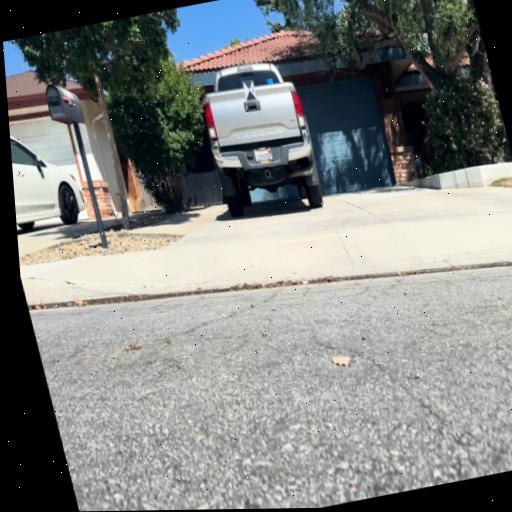target1: (242, 79, 257, 100)
